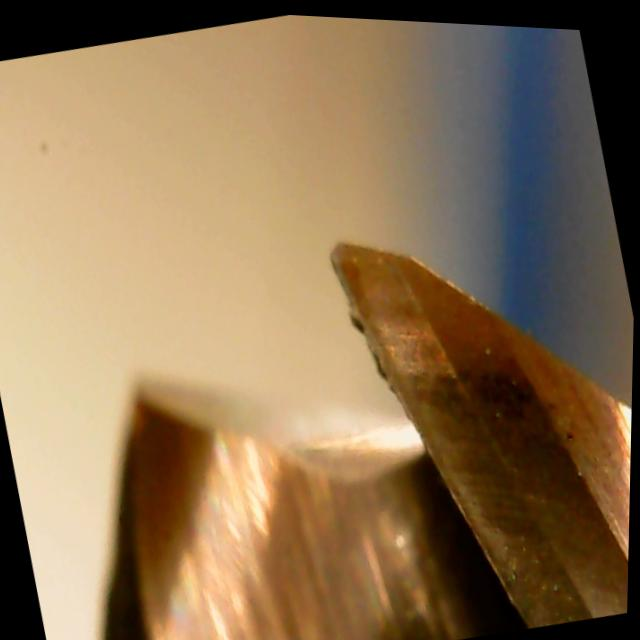Tool-wear-class-1: (297, 202, 529, 466)
